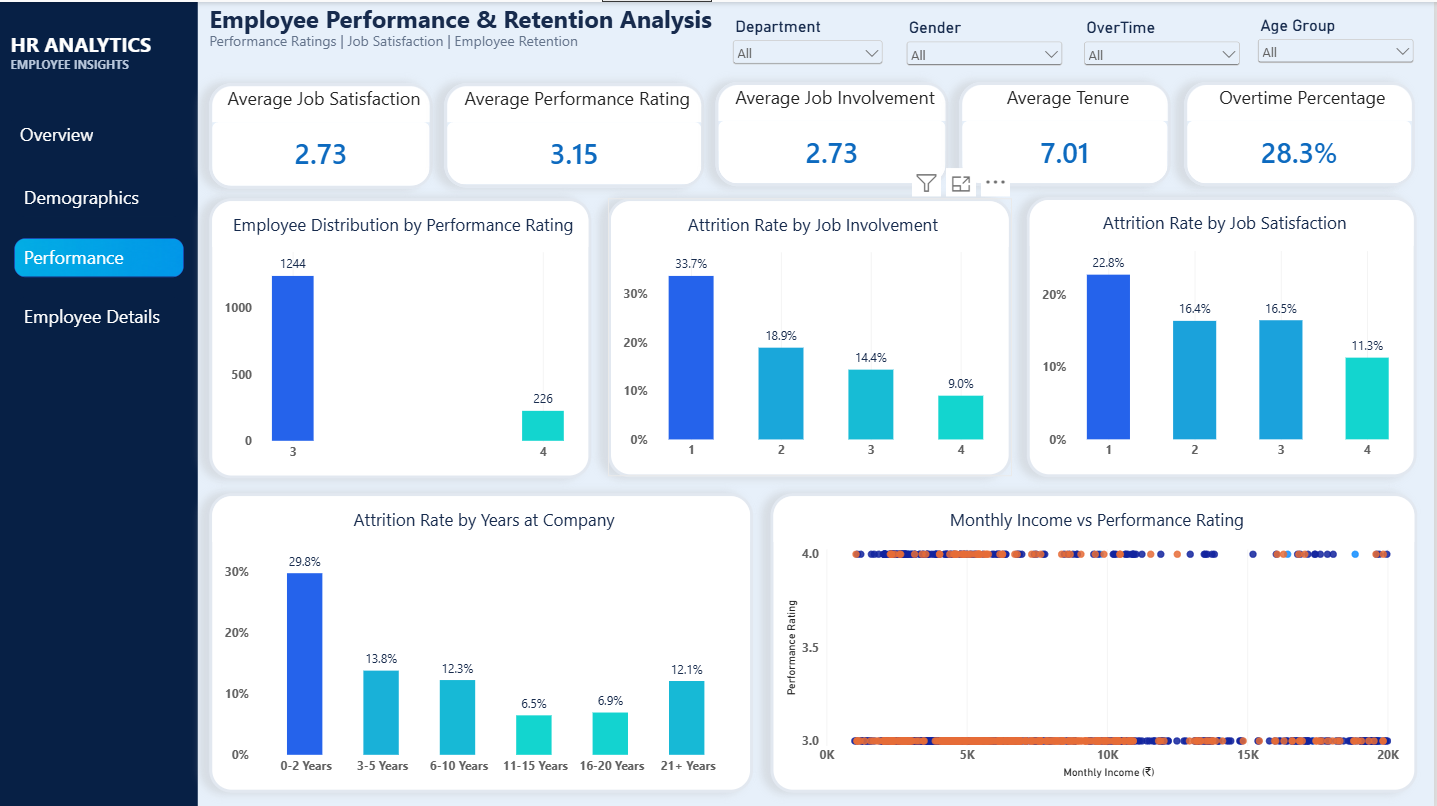

Layout of this report page (visuals, bound fields, positions):
{"tool":"powerbi","page":{"name":"Performance & Retention","canvas":[1920,1080],"ordinal":2},"visuals":[{"type":"shape","box":[0,0,266.9,1079.7],"z":0},{"type":"textbox","box":[17.4,38.4,212.8,40.1],"z":1000},{"type":"textbox","box":[17.4,71.5,183.1,36.6],"z":2000},{"type":"actionButton","box":[17.4,148.3,230.2,57.6],"z":3000},{"type":"actionButton","box":[20.9,235.5,226.7,52.3],"z":4000},{"type":"actionButton","box":[20.9,315.7,226.7,52.3],"z":5000},{"type":"textbox","box":[282,0,708,72],"z":6000},{"type":"textbox","box":[282,38,818,52],"z":7000},{"type":"cardVisual","title":"Average Job Satisfaction","fields":{"Data":["Employees.Average Job Satisfaction"]},"box":[282.3,108.6,298.6,141.2],"z":8000},{"type":"cardVisual","title":"Average Performance Rating","fields":{"Data":["Employees.Average Performance Rating"]},"box":[595.4,108.6,347.5,139.3],"z":9000},{"type":"cardVisual","title":"Average Job Involvement","fields":{"Data":["Employees.Average Job Involvement"]},"box":[959.1,106.8,311.3,139.3],"z":10000},{"type":"cardVisual","title":"Average Tenure","fields":{"Data":["Employees.Average Tenure"]},"box":[1284.9,106.8,282.3,139.3],"z":11000},{"type":"cardVisual","title":"Overtime Percentage","fields":{"Data":["Employees.Overtime Percentage"]},"box":[1585.3,106.8,307.6,139.3],"z":12000},{"type":"scatterChart","title":"Monthly Income vs Performance Rating","fields":{"Category":["Employees.EmployeeNumber"],"Series":["Employees.Department"],"X":["Avg(Employees.MonthlyIncome)"],"Y":["Avg(Employees.PerformanceRating)"]},"box":[1032,656,864,400],"z":13000},{"type":"clusteredColumnChart","title":"Employee Distribution by Performance Rating","fields":{"Category":["Employees.PerformanceRating"],"Y":["Employees.Total Employees"]},"box":[282.3,262.4,510.3,374.6],"z":14000},{"type":"clusteredColumnChart","title":"Attrition Rate by Years at Company","fields":{"Category":["Employees.Tenure Group"],"Y":["Employees.Attrition Rate"]},"box":[282,656,726,400],"z":15000},{"type":"clusteredColumnChart","title":"Attrition Rate by Job Satisfaction","fields":{"Category":["Employees.JobSatisfaction"],"Y":["Employees.Attrition Rate"]},"box":[1374.4,259.9,520.8,374.3],"z":16000},{"type":"clusteredColumnChart","title":"Attrition Rate by Job Involvement","fields":{"Category":["Employees.JobInvolvement"],"Y":["Employees.Attrition Rate"]},"box":[814.3,262.4,539.3,372.8],"z":17000},{"type":"slicer","fields":{"Values":["Employees.Department"]},"box":[977.2,19.9,210,65],"z":18000},{"type":"slicer","fields":{"Values":["Employees.Gender"]},"box":[1208.9,21.7,217.7,63.1],"z":19000},{"type":"slicer","fields":{"Values":["Employees.OverTime"]},"box":[1445.9,21.7,217.7,63.1],"z":20000},{"type":"slicer","fields":{"Values":["Employees.Age Group"]},"box":[1677.9,19.2,217.7,63.1],"z":21000},{"type":"actionButton","box":[21.7,394.5,226.7,52.3],"z":22000}]}

Visuals, with their boxes on the page's 1920x1080 design canvas (x1, y1, x2, y2). These are canvas units, not pixel positions in the 1437x806 screenshot, which may show the page scaled, cropped or inside an application window:
shape: box(0, 0, 267, 1080)
textbox: box(17, 38, 230, 78)
textbox: box(17, 72, 200, 108)
actionButton: box(17, 148, 248, 206)
actionButton: box(21, 236, 248, 288)
actionButton: box(21, 316, 248, 368)
textbox: box(282, 0, 990, 72)
textbox: box(282, 38, 1100, 90)
"Average Job Satisfaction" cardVisual: box(282, 109, 581, 250)
"Average Performance Rating" cardVisual: box(595, 109, 943, 248)
"Average Job Involvement" cardVisual: box(959, 107, 1270, 246)
"Average Tenure" cardVisual: box(1285, 107, 1567, 246)
"Overtime Percentage" cardVisual: box(1585, 107, 1893, 246)
"Monthly Income vs Performance Rating" scatterChart: box(1032, 656, 1896, 1056)
"Employee Distribution by Performance Rating" clusteredColumnChart: box(282, 262, 793, 637)
"Attrition Rate by Years at Company" clusteredColumnChart: box(282, 656, 1008, 1056)
"Attrition Rate by Job Satisfaction" clusteredColumnChart: box(1374, 260, 1895, 634)
"Attrition Rate by Job Involvement" clusteredColumnChart: box(814, 262, 1354, 635)
slicer - Employees.Department: box(977, 20, 1187, 85)
slicer - Employees.Gender: box(1209, 22, 1427, 85)
slicer - Employees.OverTime: box(1446, 22, 1664, 85)
slicer - Employees.Age Group: box(1678, 19, 1896, 82)
actionButton: box(22, 394, 248, 447)
